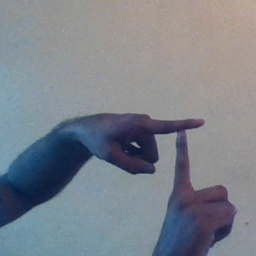T: (138, 101, 223, 210)
